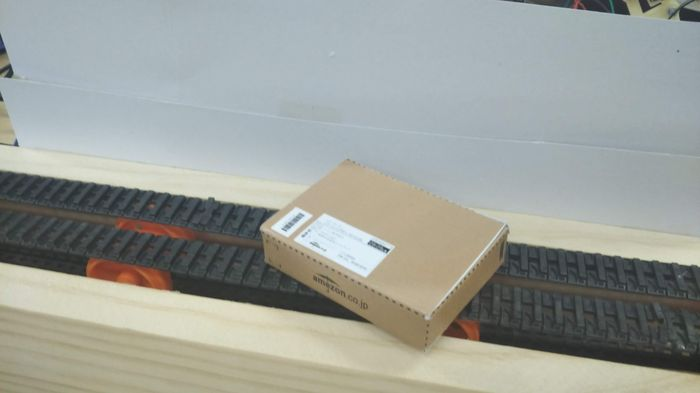box2: (257, 154, 511, 355)
